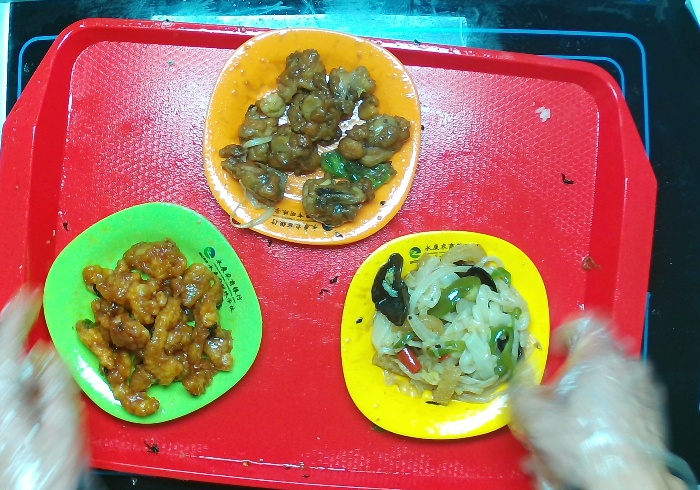YKMZ-Huang_Se_Fang_Die: (335, 227, 554, 440)
YKMZ-Ju_Se_Fang_Die: (204, 25, 423, 247)
YKMZ-Lv_Se_Fang_Die: (43, 205, 267, 424)
